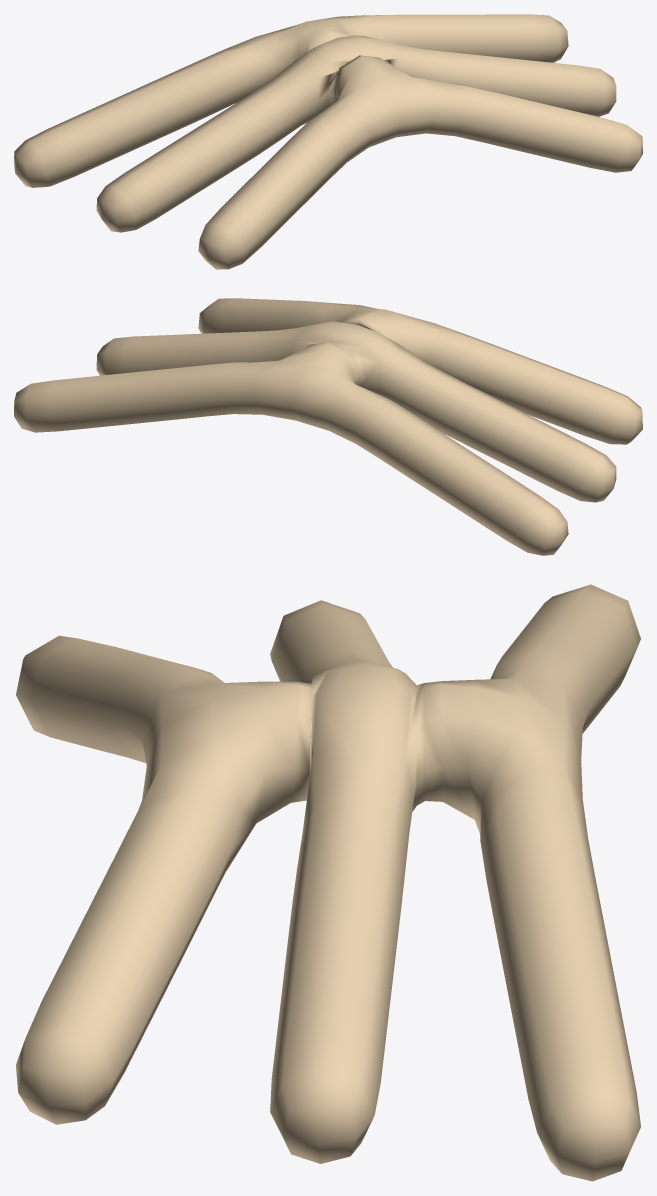
Rendered from RIBS.fbx.
The picture shows the model from 3 angles, top to bottom: view 1: azimuth 30°, elevation 25°; view 2: azimuth 150°, elevation 25°; view 3: azimuth 270°, elevation 25°; orthographic projection. The views are drawn at different scales.
Parts seen in each view (by area): view 1: RIBS; view 2: RIBS; view 3: RIBS.
Boxes of the visible parts, x1=… form: RIBS: x1=14, y1=14, x2=642, y2=269; RIBS: x1=14, y1=298, x2=642, y2=555; RIBS: x1=16, y1=584, x2=640, y2=1181.
Bounding box in the file's own units: 529 × 114 × 262.
